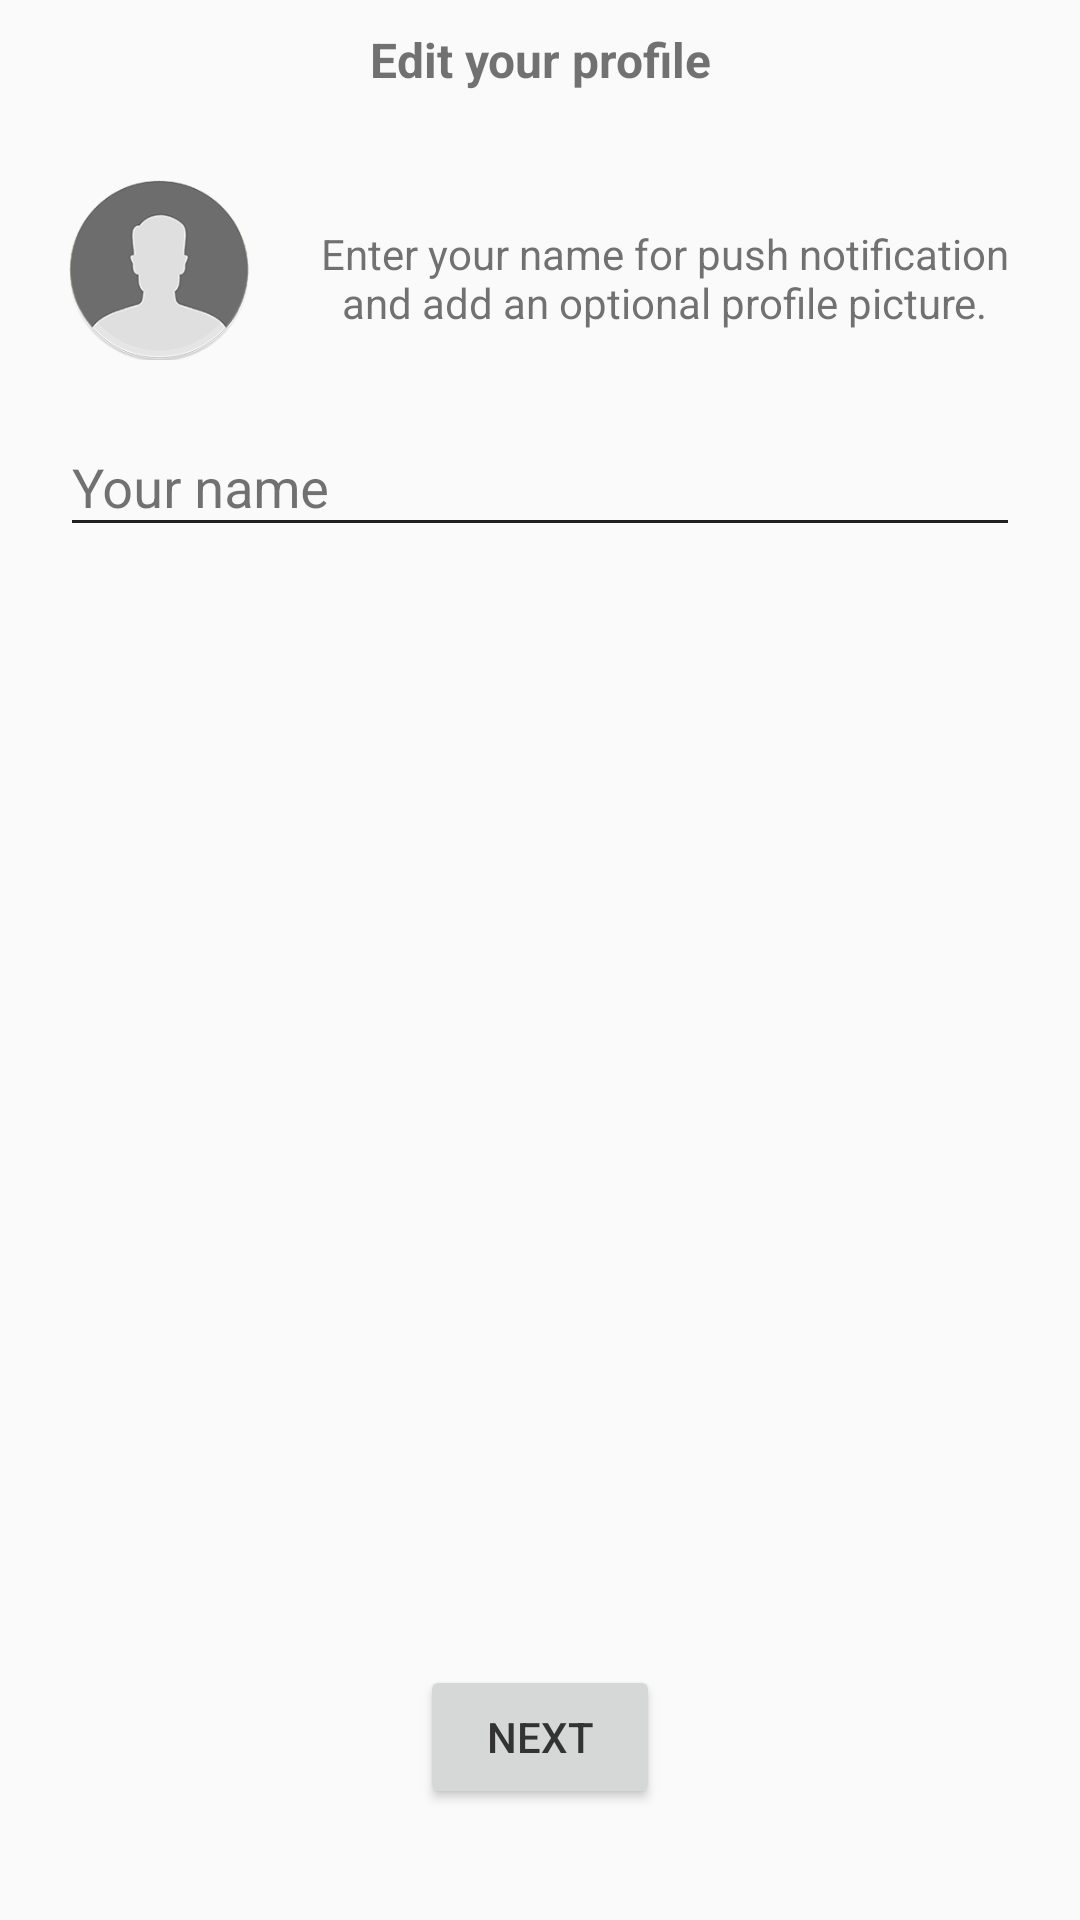

Named icons in this screenshot (1080×1920) and their bounding boxes, (x1, y1, x2, y2):
profile person: (70, 180, 249, 360)
